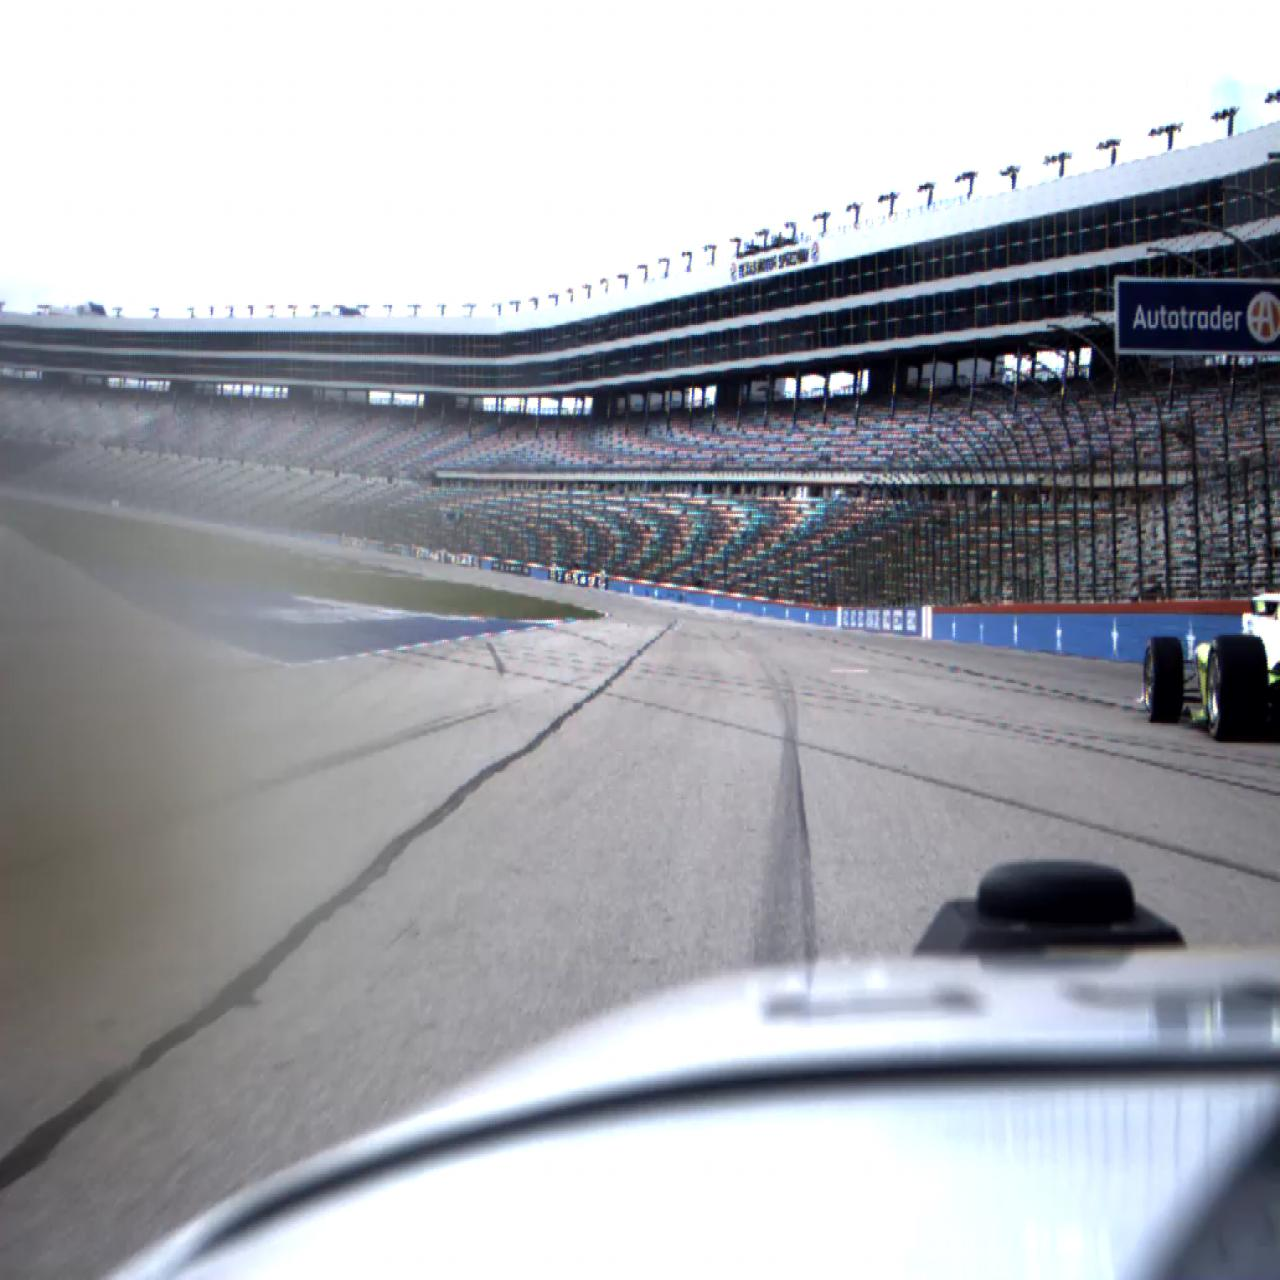AV: (1136, 592, 1280, 744)
Wheel: (1208, 633, 1268, 743), (1143, 637, 1184, 724)
